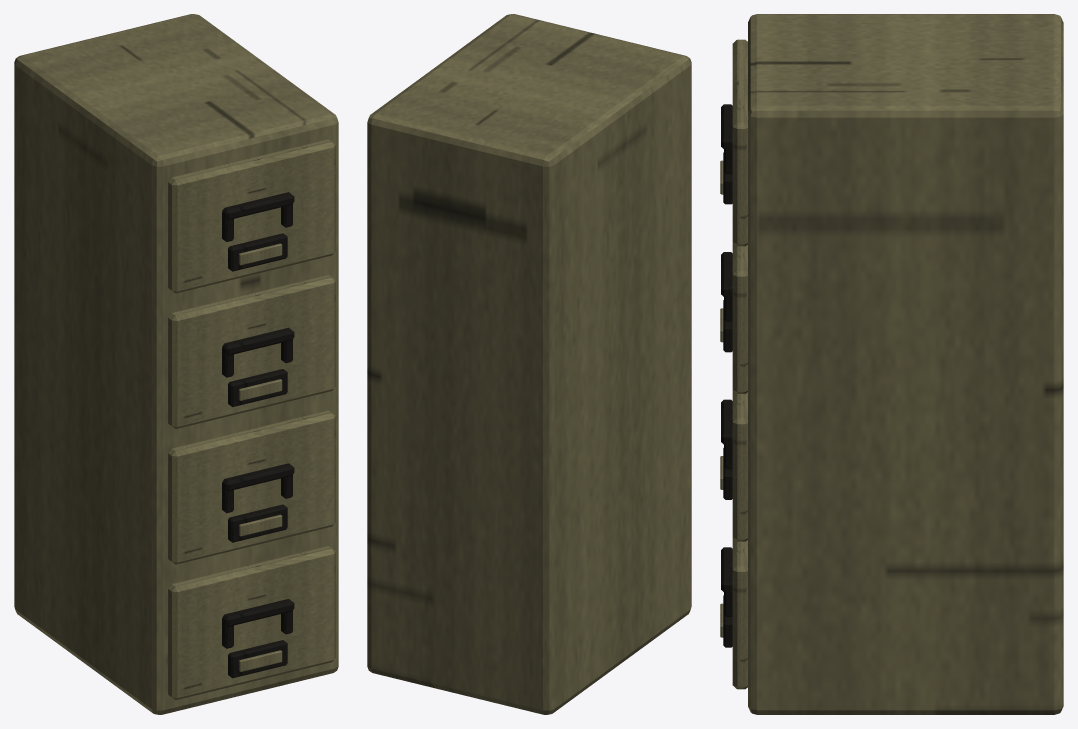
Rendered from filing-cabinet.glb.
The picture shows the model from 3 angles, left to right: view 1: azimuth 30°, elevation 25°; view 2: azimuth 150°, elevation 25°; view 3: azimuth 270°, elevation 25°; orthographic projection. The views are drawn at different scales.
Visible parts, largest first — view 1: SM_backrooms_filing_cabinet_CabinetYellowedPaint, SM_backrooms_filing_cabinet_CabinetDarkHardware; view 2: SM_backrooms_filing_cabinet_CabinetYellowedPaint; view 3: SM_backrooms_filing_cabinet_CabinetYellowedPaint, SM_backrooms_filing_cabinet_CabinetDarkHardware.
Boxes of the visible parts, left/top/right/bottom form: SM_backrooms_filing_cabinet_CabinetYellowedPaint: left=14, top=14, right=338, bottom=714; SM_backrooms_filing_cabinet_CabinetDarkHardware: left=222, top=192, right=294, bottom=678; SM_backrooms_filing_cabinet_CabinetYellowedPaint: left=367, top=14, right=691, bottom=714; SM_backrooms_filing_cabinet_CabinetYellowedPaint: left=720, top=14, right=1063, bottom=714; SM_backrooms_filing_cabinet_CabinetDarkHardware: left=721, top=104, right=732, bottom=647.
Size of the model in its own units: 0.46 by 1.32 by 0.674.
2 materials, 2 textured.
